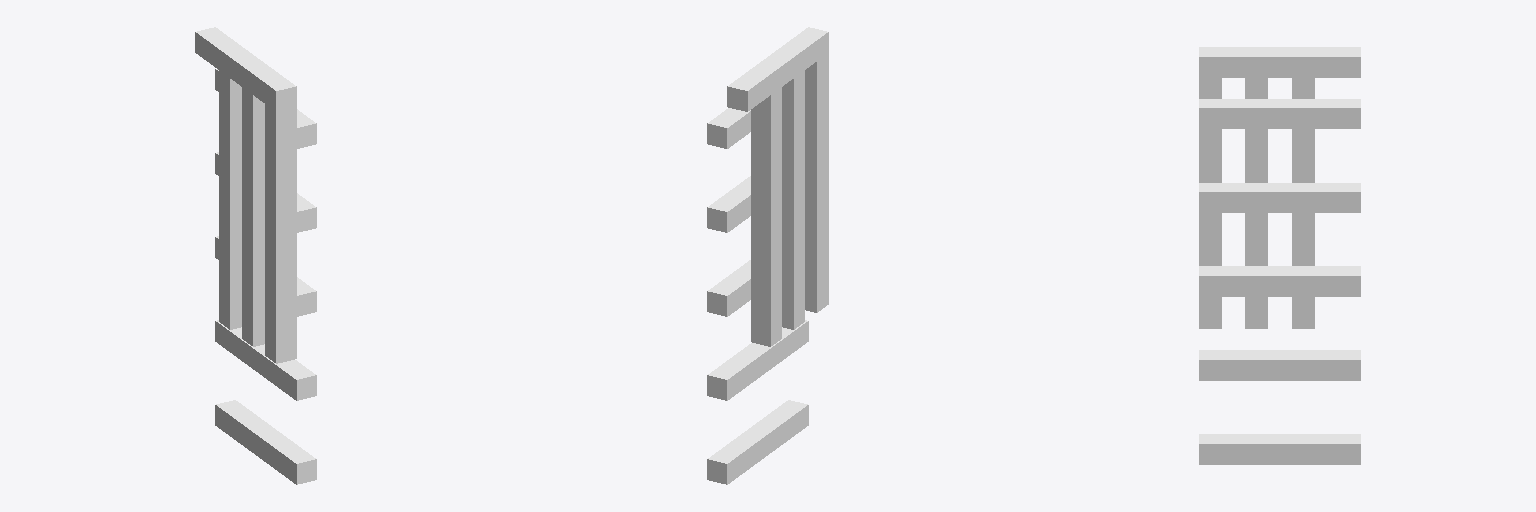
Rendered from TallBuilding03-6.obj.
3 renders of one model, left to right at view 1: azimuth 30°, elevation 25°; view 2: azimuth 150°, elevation 25°; view 3: azimuth 270°, elevation 25°, orthographic.
Visible parts, largest first — view 1: object 1; view 2: object 1; view 3: object 1.
Part boxes in pixels (x1,y1,x2,y2): object 1: (195,27,316,484); object 1: (707,27,828,484); object 1: (1199,47,1360,464).
Bounding box in the file's own units: 0.2 × 1.9 × 0.7.